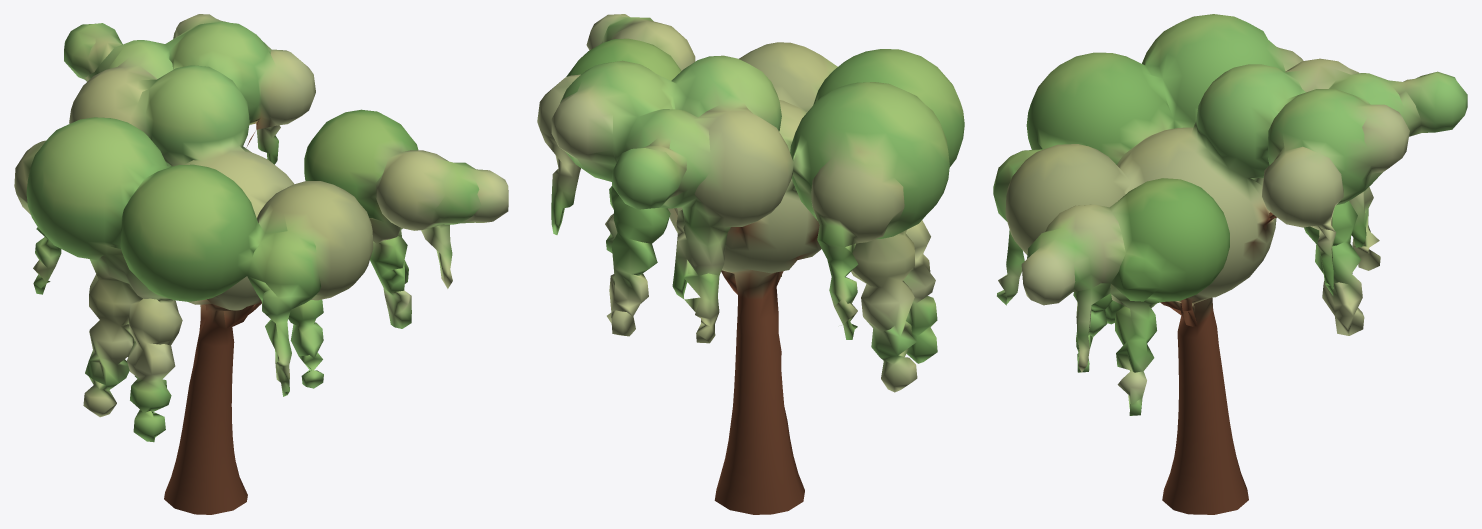
The model's file is weeping-tree-107-lod1.obj.
The picture shows the model from 3 angles, left to right: view 1: azimuth 30°, elevation 25°; view 2: azimuth 150°, elevation 25°; view 3: azimuth 270°, elevation 25°; orthographic projection. The views are drawn at different scales.
Parts seen in each view (by area): view 1: simplified; view 2: simplified; view 3: simplified.
Part boxes in pixels (x1,y1,x2,y2): simplified: [14, 14, 508, 514]; simplified: [537, 14, 964, 514]; simplified: [993, 14, 1467, 514].
Size of the model in its own units: 336 by 337 by 329.
